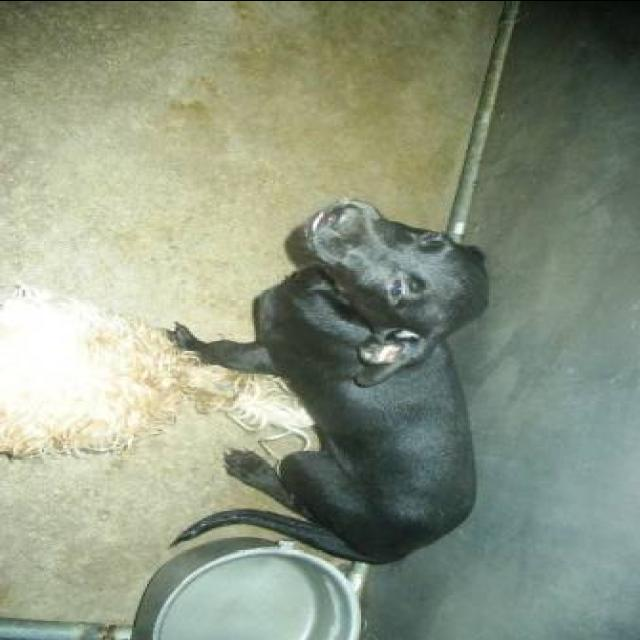dog: (152, 190, 510, 580)
